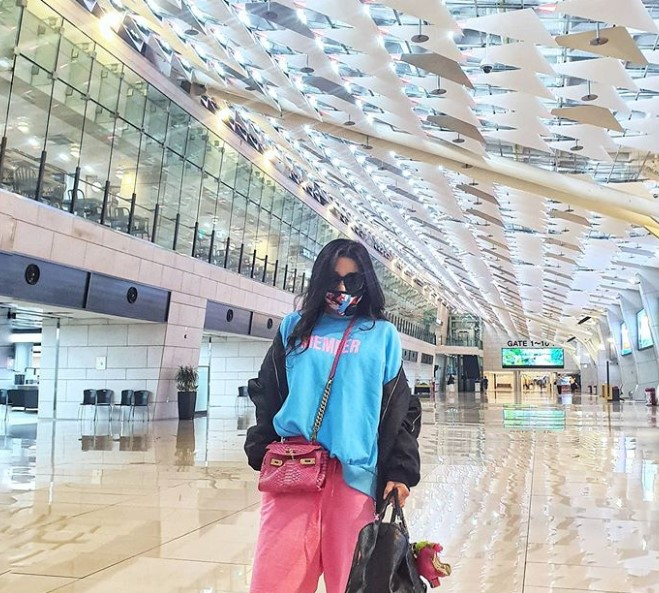face_with_mask: (311, 236, 378, 324)
